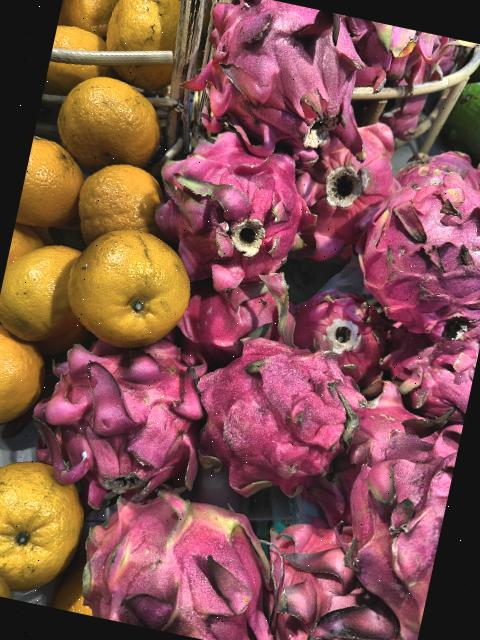buah-naga-belum-matang: (65, 491, 293, 640)
buah-naga-matang: (307, 391, 465, 608), (183, 316, 359, 498), (187, 0, 381, 162), (134, 116, 317, 286), (36, 327, 205, 487), (248, 514, 437, 640), (354, 170, 480, 346)
